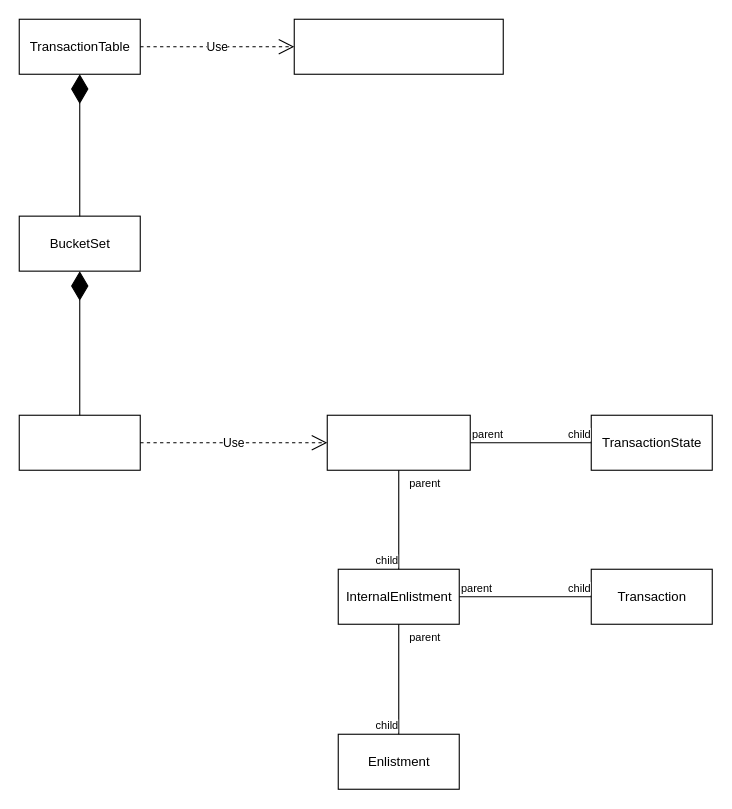
The diagram is 732 pixels wide and 809 high, and some of its shapes have lost their labels. Here are the shapes that lost their labels. From the top down, the centre of each, then its label:
At (x=398, y=46): "CheapUnfairReaderWriterLock".
At (x=79, y=442): "Bucket".
At (x=398, y=442): "InternalTransaction".
